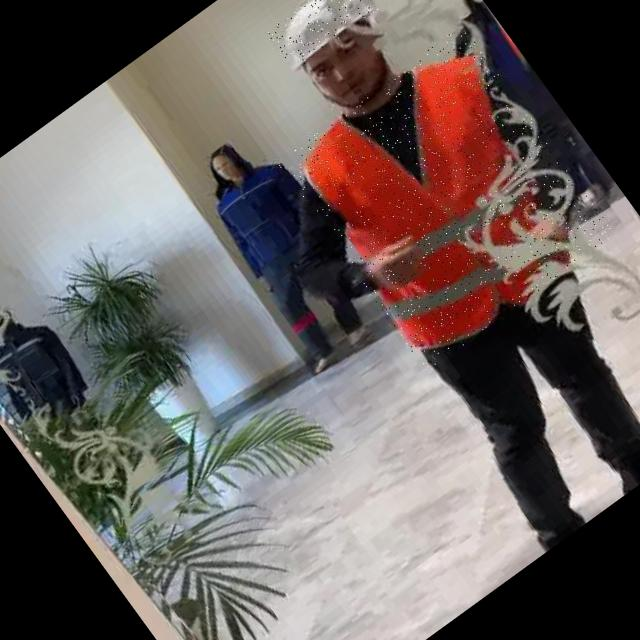hard_hat: (265, 0, 379, 70)
safety_vest: (273, 23, 616, 372)
